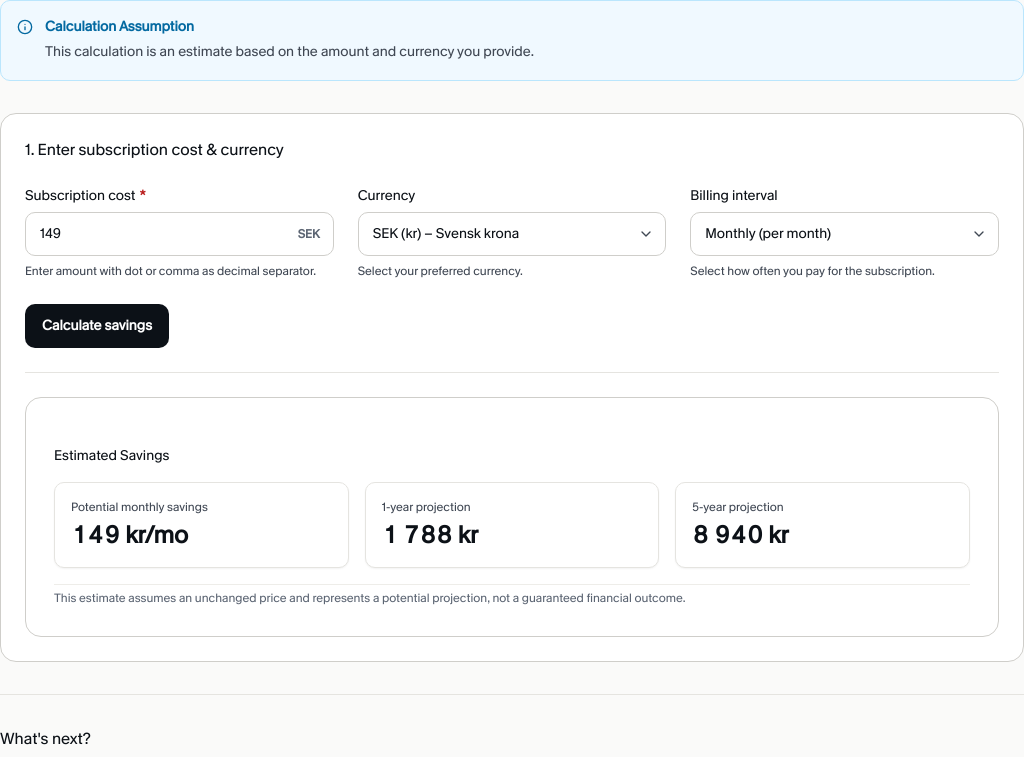
Test: SavingsCalculator Component › displays error message on invalid negative or non-numeric input
Step 1. Replace the text in the field labelled "Subscription cost *" with "-50" → {"x": 179, "y": 234}, box top-left (25, 212), bottom-right (334, 256)
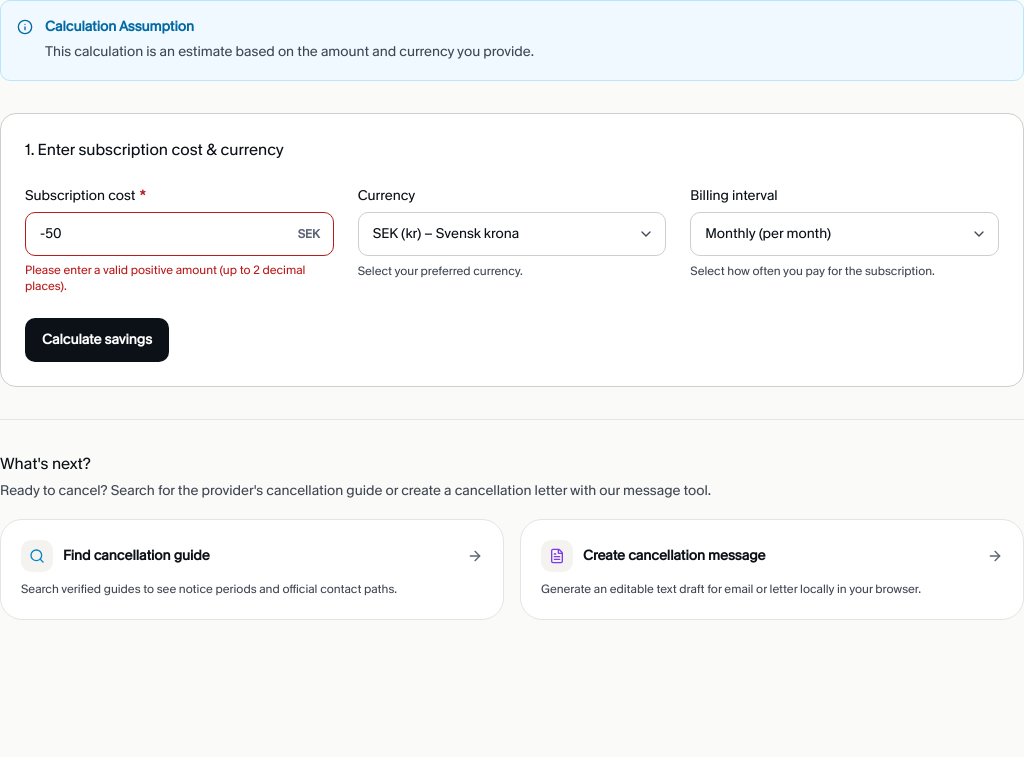
Expected: the text "Please enter a valid positive amount" is shown, top-left (25, 262), bottom-right (305, 294)
